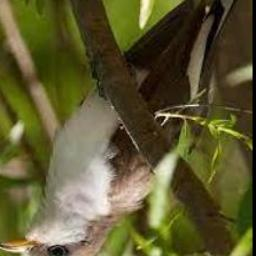Cuckoo: (0, 0, 251, 256)
